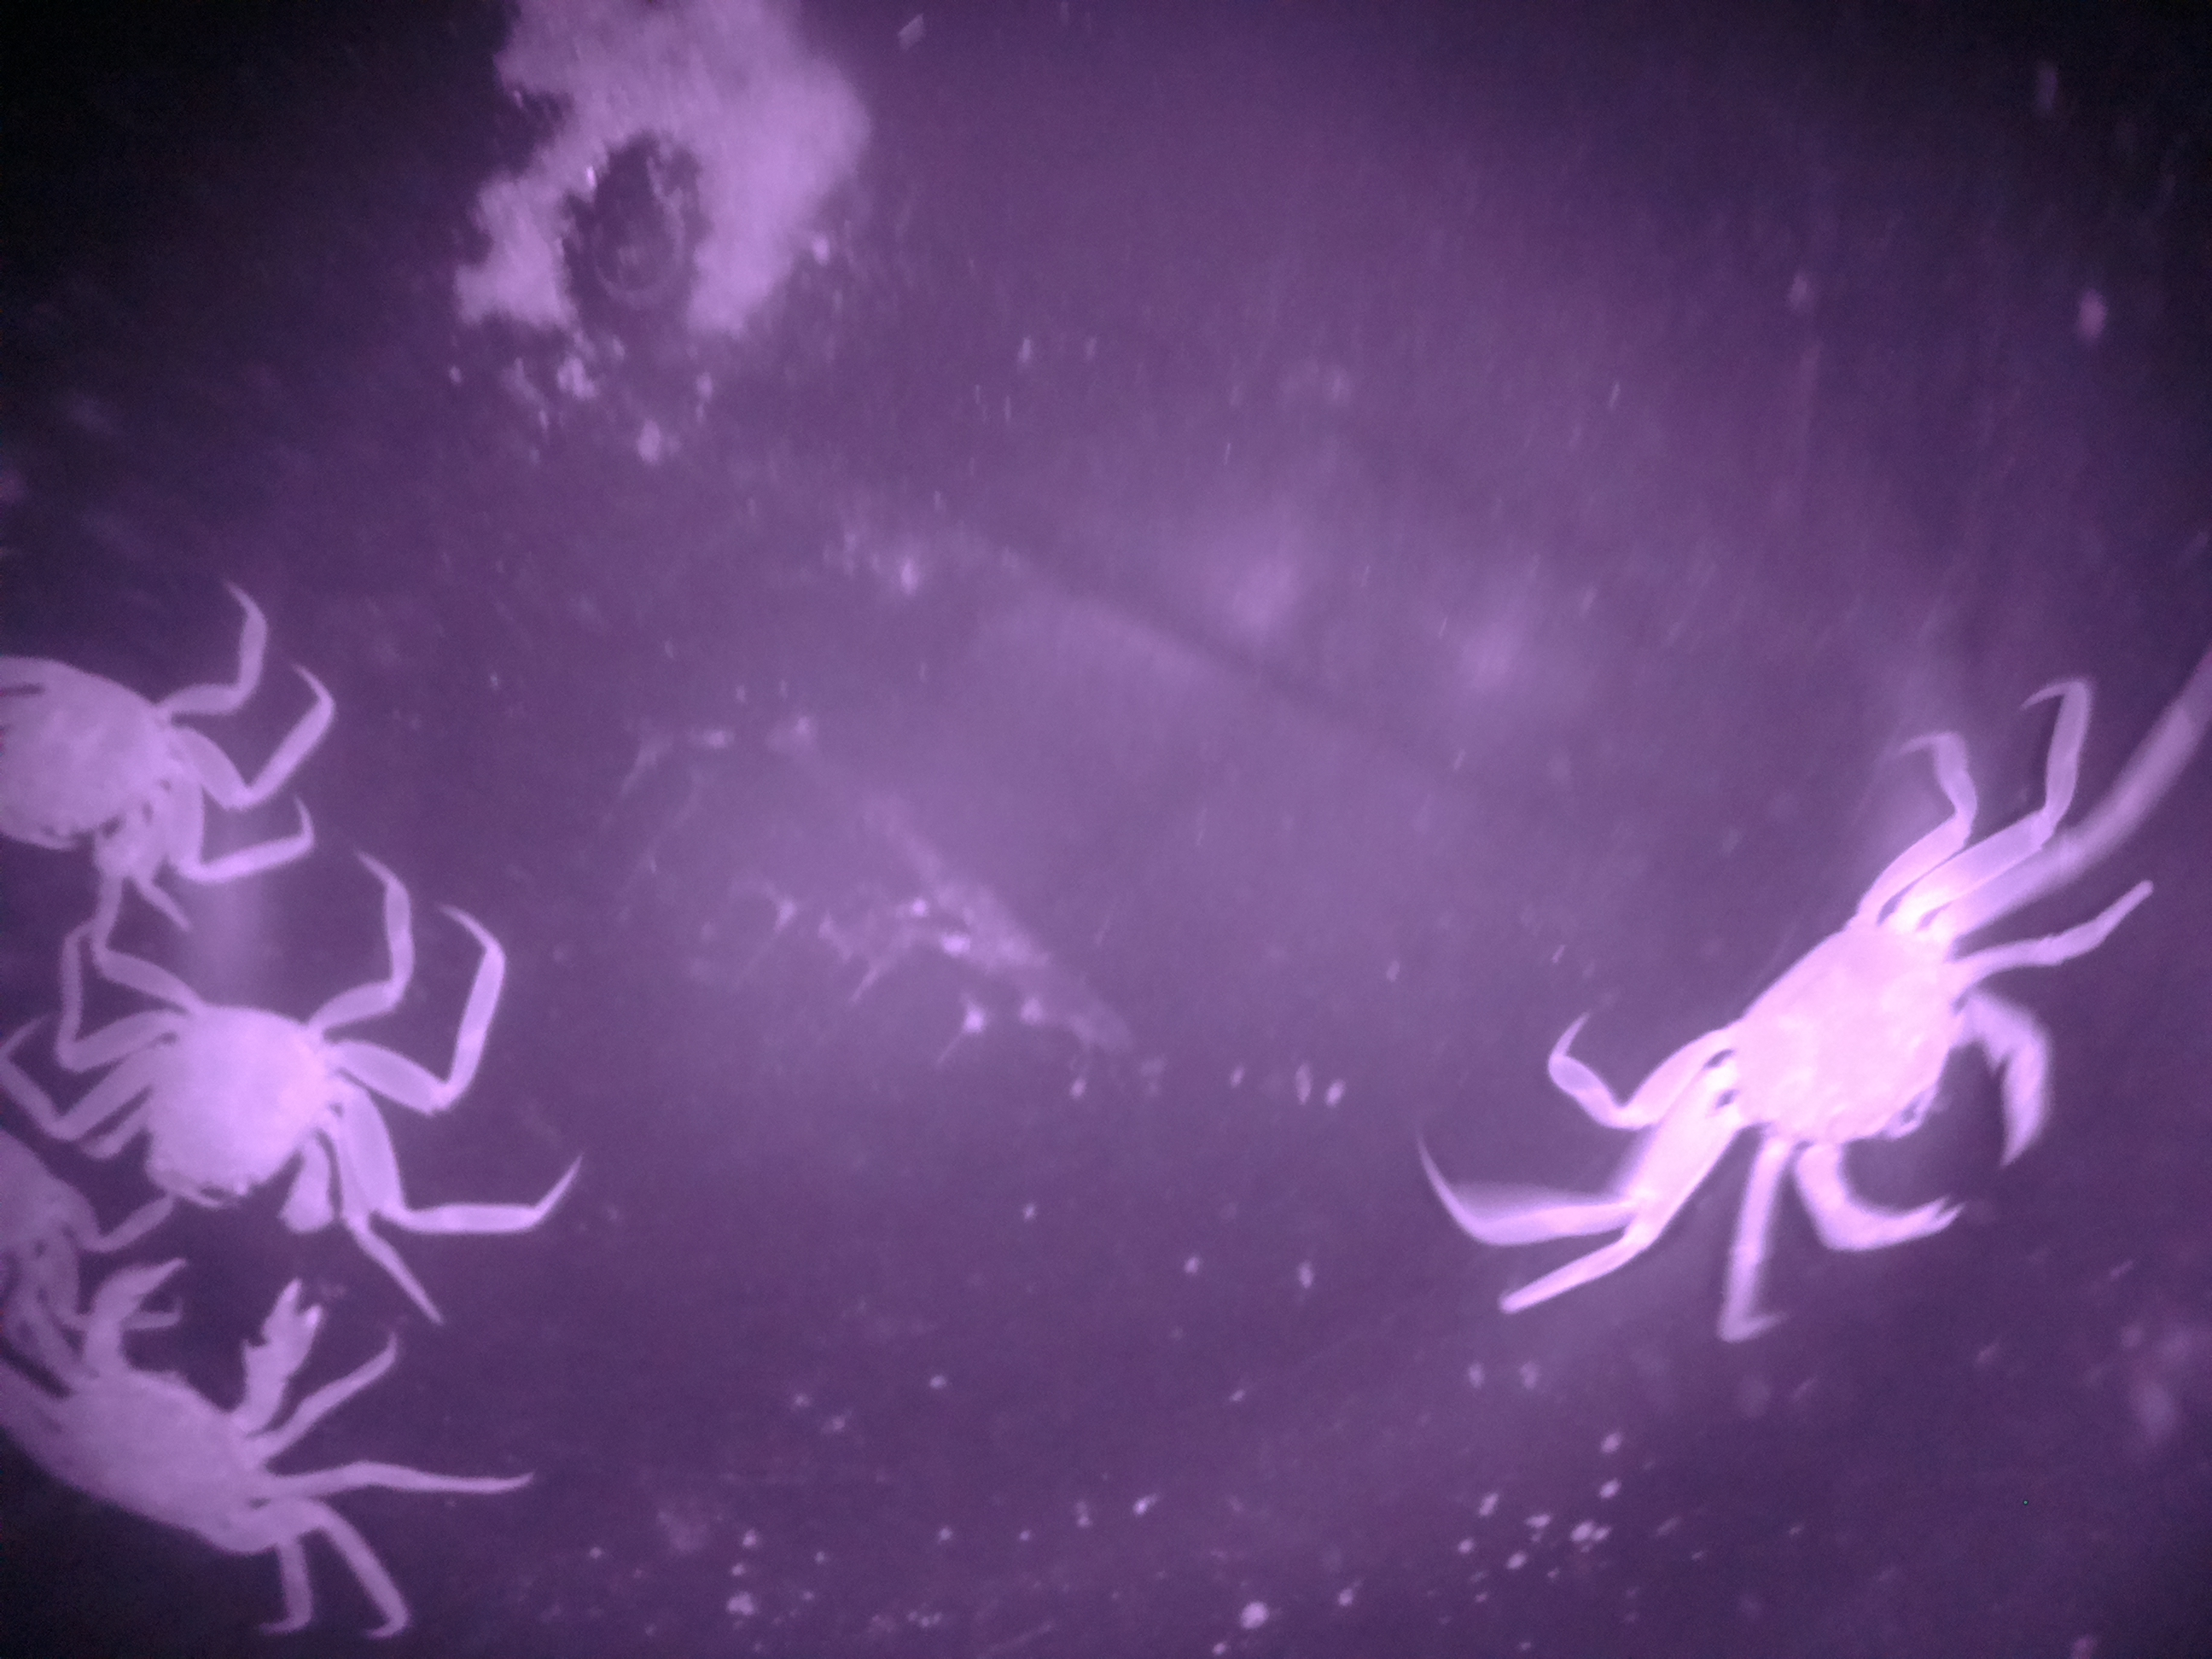Crab: (1508, 802, 2158, 1345), (71, 896, 451, 1272)
